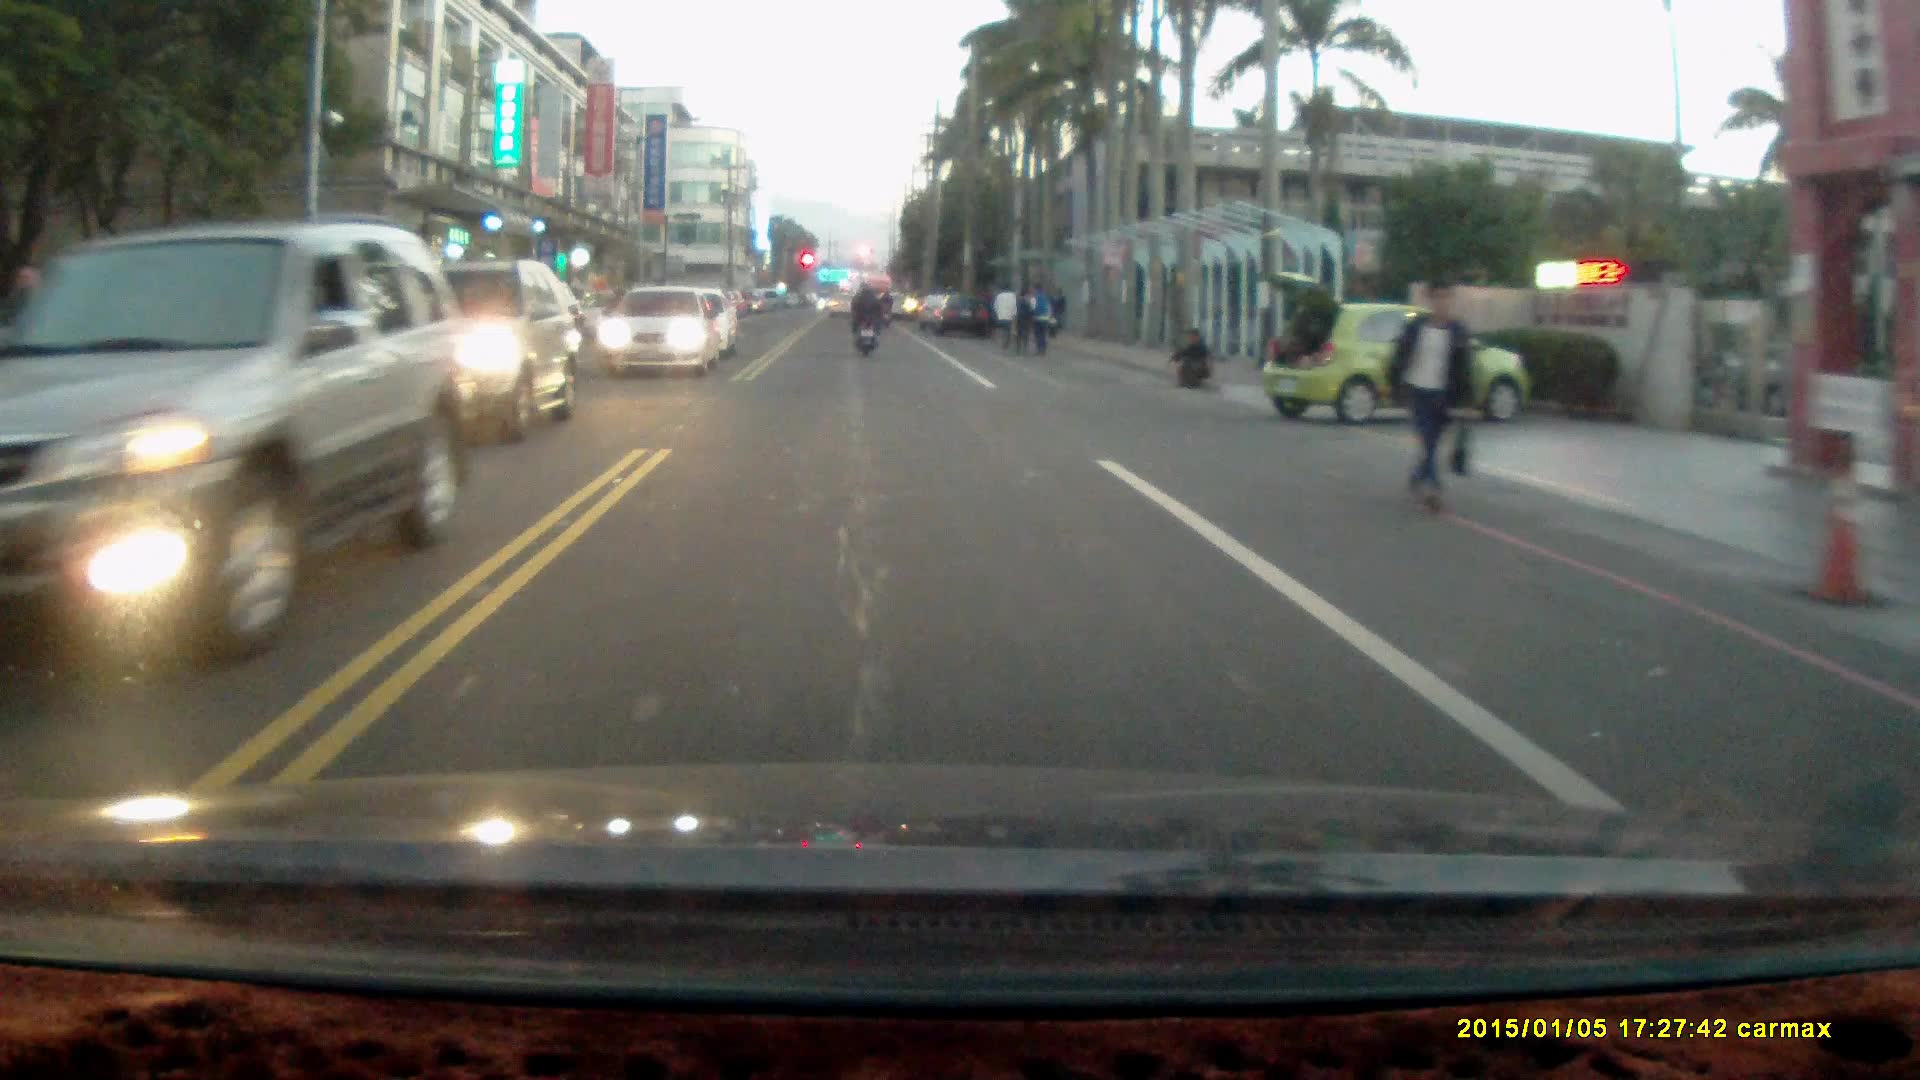pedestrian: (1381, 276, 1478, 516), (1172, 324, 1214, 389), (1026, 279, 1056, 355), (995, 281, 1020, 358), (1011, 285, 1036, 354)
rider: (847, 279, 884, 355)
vehicle: (1, 220, 471, 667), (339, 257, 583, 447), (1257, 266, 1521, 423), (600, 282, 718, 375), (936, 290, 994, 337)
